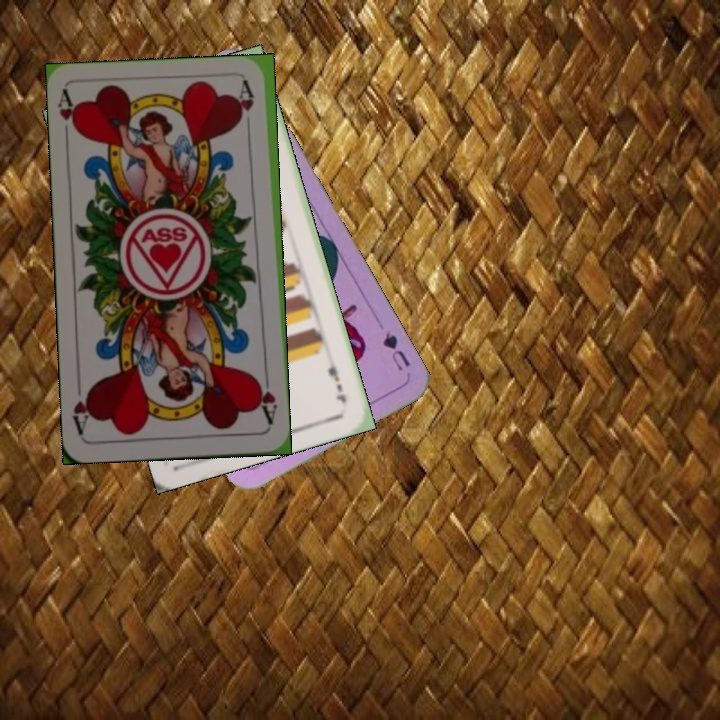E7: (323, 352, 349, 406)
GU: (378, 328, 413, 374)
HA: (54, 88, 82, 147), (252, 369, 280, 427)
